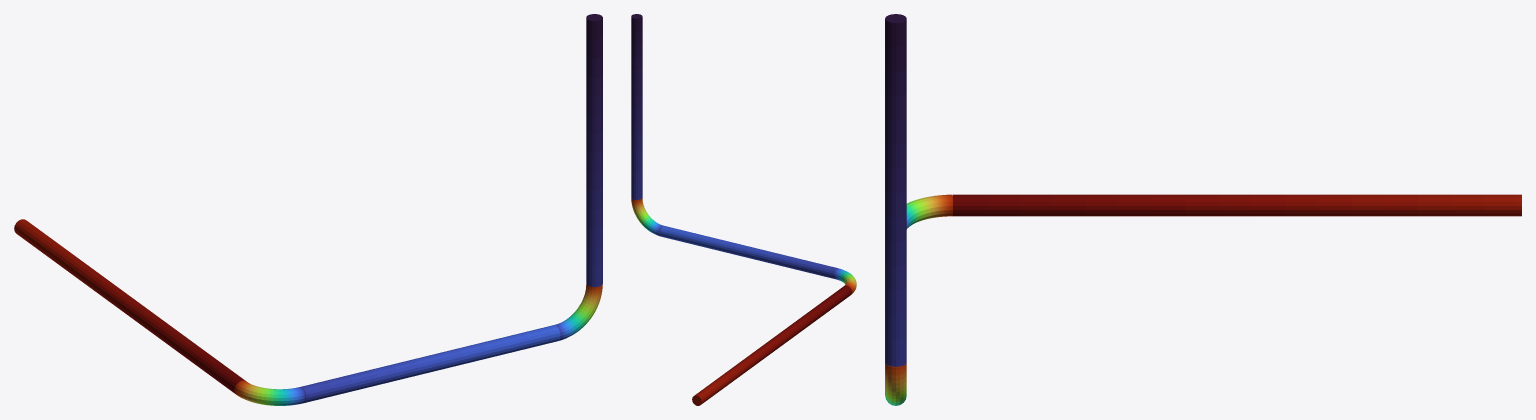
Rendered from viz_gallery_model.gltf.
3 views of the same model, side by side, from view 1: azimuth 30°, elevation 25°; view 2: azimuth 150°, elevation 25°; view 3: azimuth 270°, elevation 25° (orthographic). The views are drawn at different scales.
Visible parts, largest first — view 1: Renderer Node; view 2: Renderer Node; view 3: Renderer Node.
Part boxes in pixels (x1,y1,x2,y2): Renderer Node: [14, 14, 602, 405]; Renderer Node: [631, 14, 856, 405]; Renderer Node: [885, 14, 1521, 405].
Bounding box in the file's own units: 2.71 × 2.36 × 3.36.
1 material, 1 textured.
